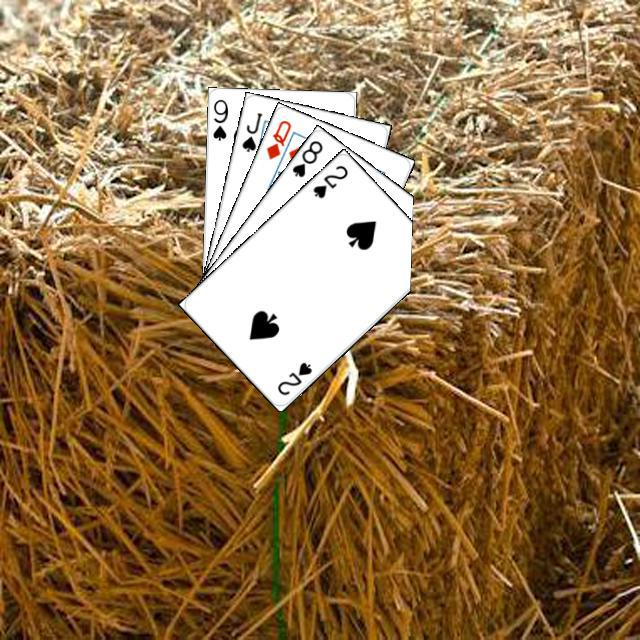2s: (272, 357, 314, 397), (308, 160, 349, 200)
8s: (287, 135, 325, 179)
9s: (208, 94, 230, 142)
Js: (237, 108, 264, 153)
Qd: (261, 115, 293, 161)
